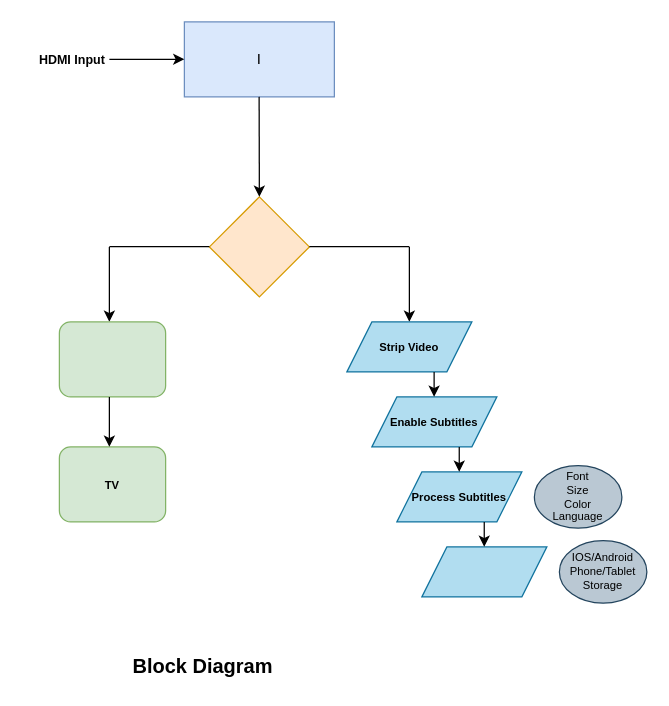
Image size: 669x706. Some labels were removed from this diagram. The shapes that lost their labels are listed below. From the top down, each one's centre as x and y in pixels, then its label:
At point (258, 246): "Split/Duplicate".
At point (112, 359): "HDMI Output".
At point (484, 571): "Bluetooth Transmit".
